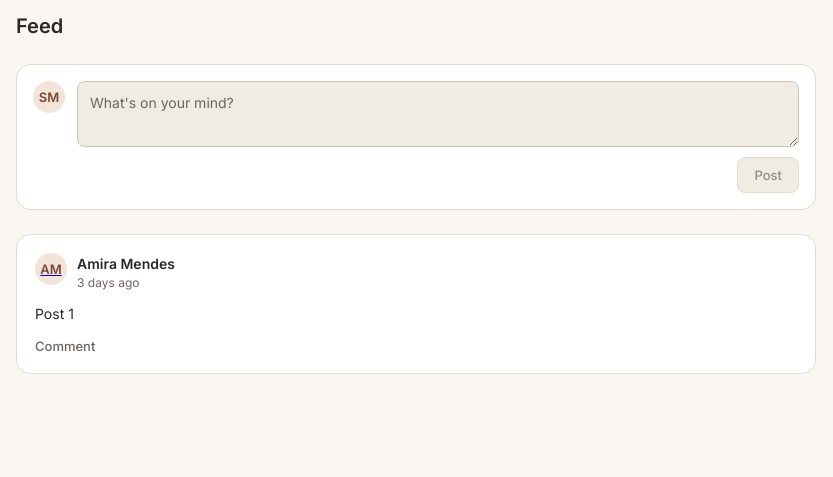
Scenario: FeedPage › takes a refused post back, puts the text back and shows the API message
expect the text "Post 1" is shown: met, box [35,305,74,322]
Type "Hello alumni" into the text box named "Write a post" at [438, 114], box [77,81,799,147]
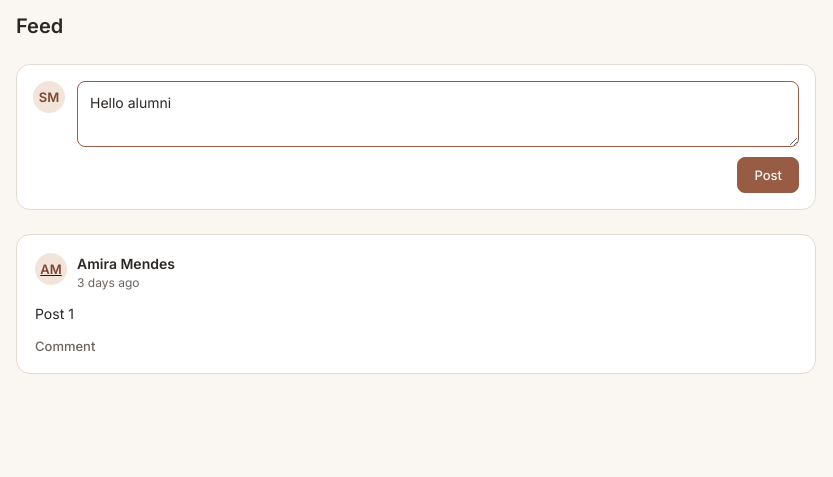
Click the button "Post" at [768, 175], box [738,157,799,193]
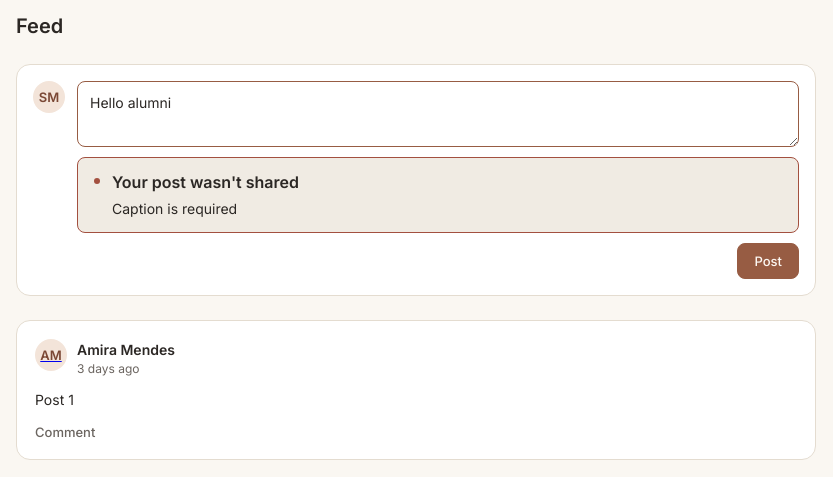
expect the text "Caption is required" is shown: met, box [112,200,237,217]
